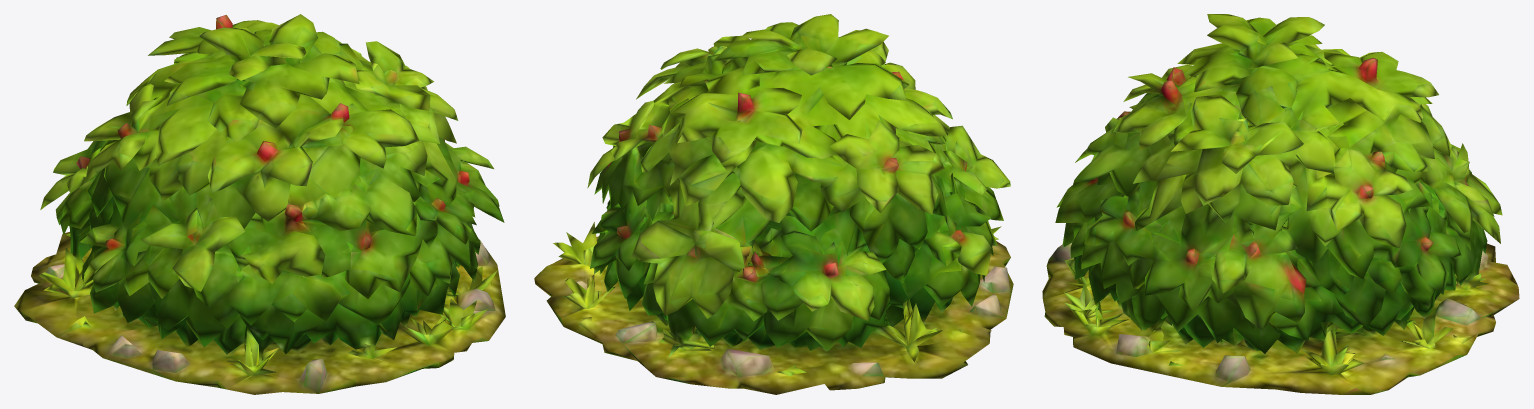
File: bush-emerald-berry.glb
3 renders of one model, left to right at view 1: azimuth 30°, elevation 25°; view 2: azimuth 150°, elevation 25°; view 3: azimuth 270°, elevation 25°, orthographic. The views are drawn at different scales.
Parts seen in each view (by area): view 1: Mesh1.0; view 2: Mesh1.0; view 3: Mesh1.0.
Boxes of the visible parts, x1=… form: Mesh1.0: x1=14, y1=14, x2=505, y2=394; Mesh1.0: x1=534, y1=14, x2=1013, y2=394; Mesh1.0: x1=1042, y1=14, x2=1519, y2=394.
Bounding box in the file's own units: 1.89 × 1.14 × 1.87.
1 material, 1 textured.
